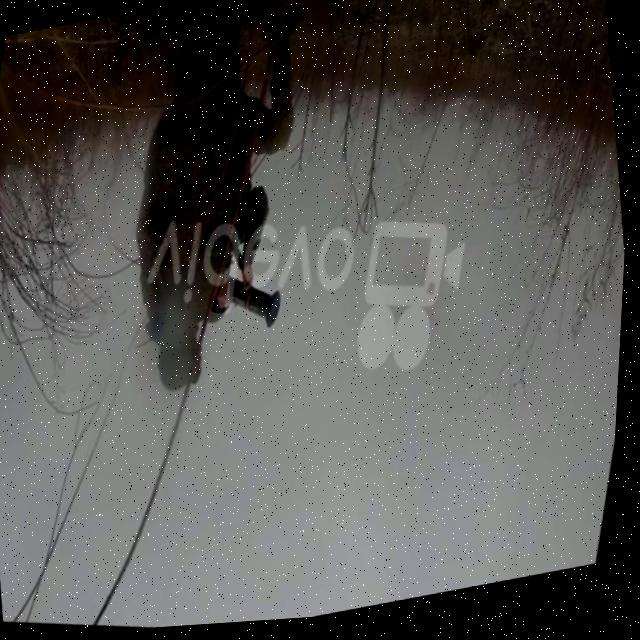rocket: (212, 267, 294, 346)
